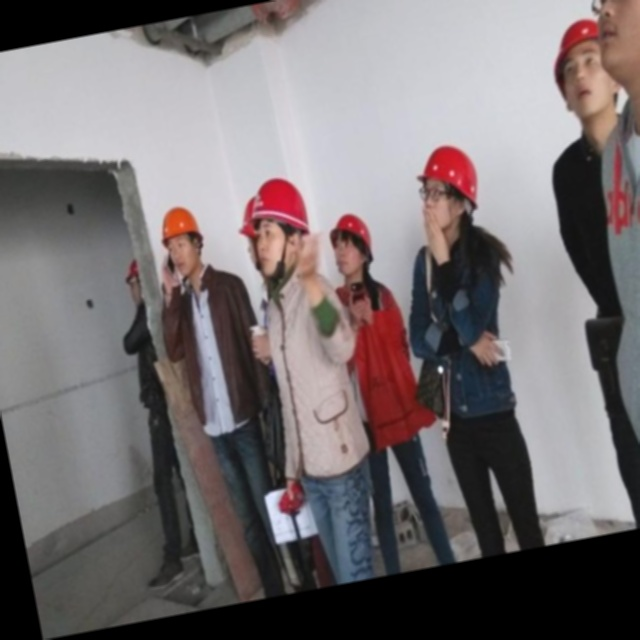Con_Casco: (249, 172, 322, 281), (158, 205, 208, 277)
Sin_Chaleco: (256, 272, 367, 482)
